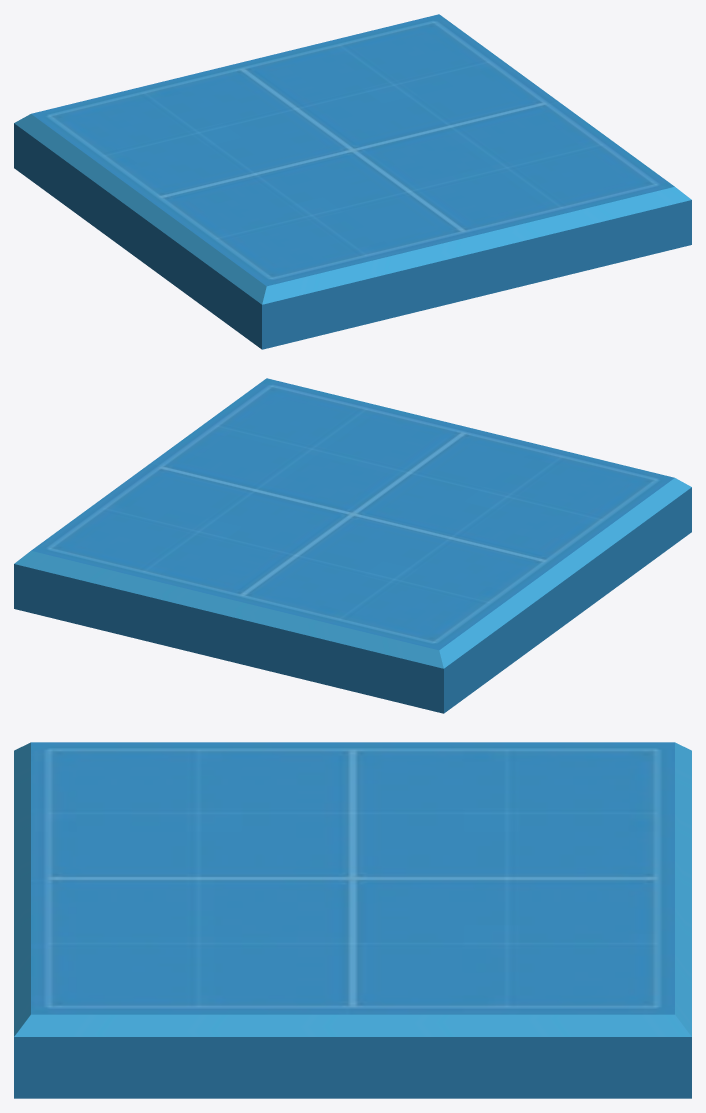
File: floor-prototype.glb
The picture shows the model from 3 angles, top to bottom: view 1: azimuth 30°, elevation 25°; view 2: azimuth 150°, elevation 25°; view 3: azimuth 270°, elevation 25°; orthographic projection. The views are drawn at different scales.
Parts seen in each view (by area): view 1: Floor_Prototype; view 2: Floor_Prototype; view 3: Floor_Prototype.
Boxes of the visible parts, x1,y1,x2,y2 form: Floor_Prototype: [14, 14, 691, 349]; Floor_Prototype: [14, 378, 691, 713]; Floor_Prototype: [14, 742, 691, 1098].
Bounding box in the file's own units: 4 × 0.5 × 4.
Materials: 1 (1 with a texture image).
